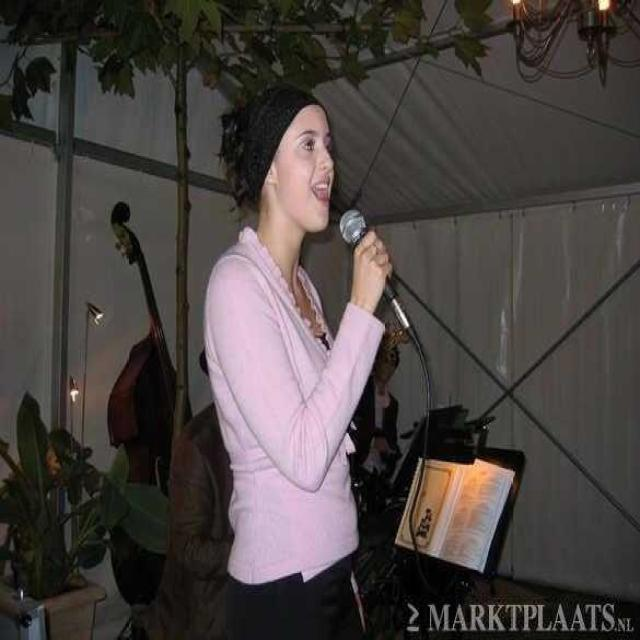microphone: (338, 206, 413, 331)
